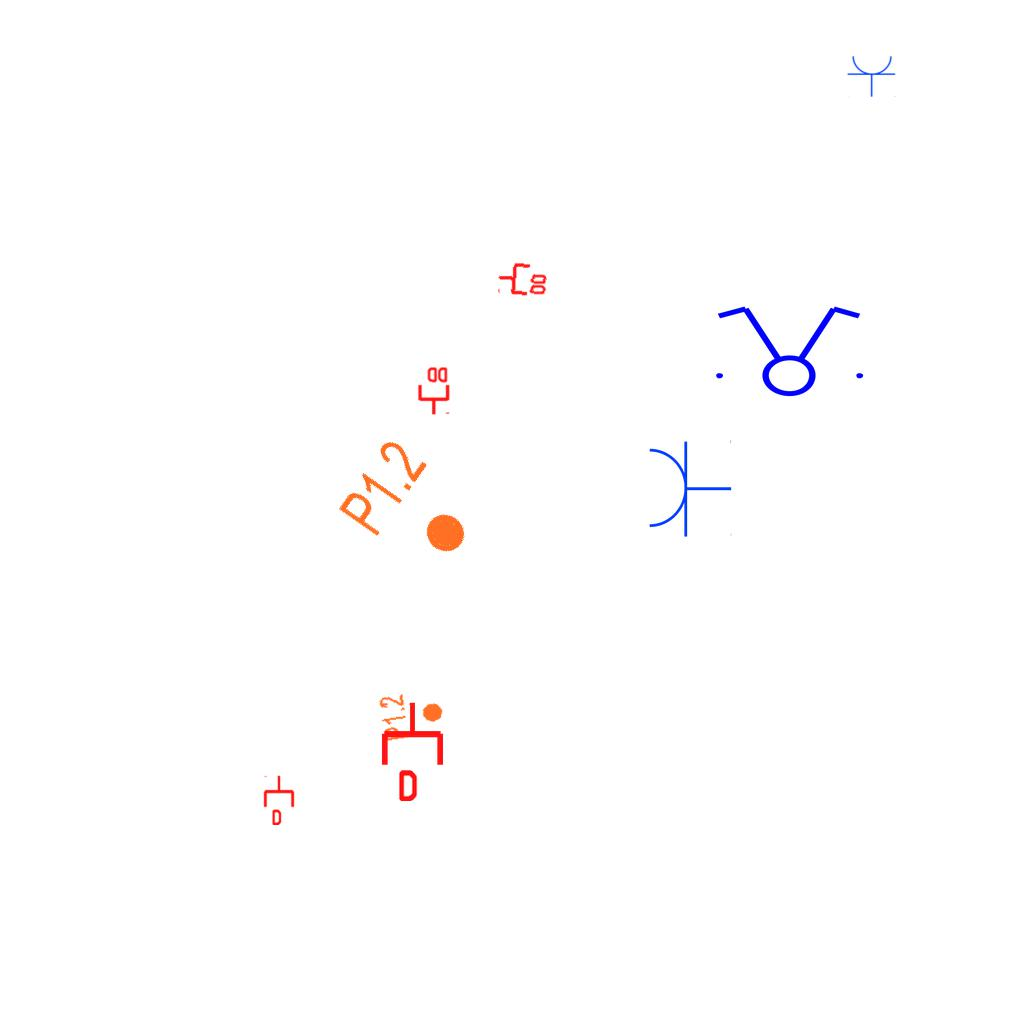Datenanschluss_einfach: (378, 701, 447, 801), (262, 775, 296, 825)
Datenanschluss_zweifach: (496, 259, 550, 298), (416, 365, 450, 416)
Downlight_LED_Einbauleuchten_Flur: (333, 433, 492, 583), (376, 687, 448, 743)
Schukosteckdose_einfach: (645, 438, 732, 538), (847, 54, 897, 97)
Serienschalter: (704, 302, 872, 398)
